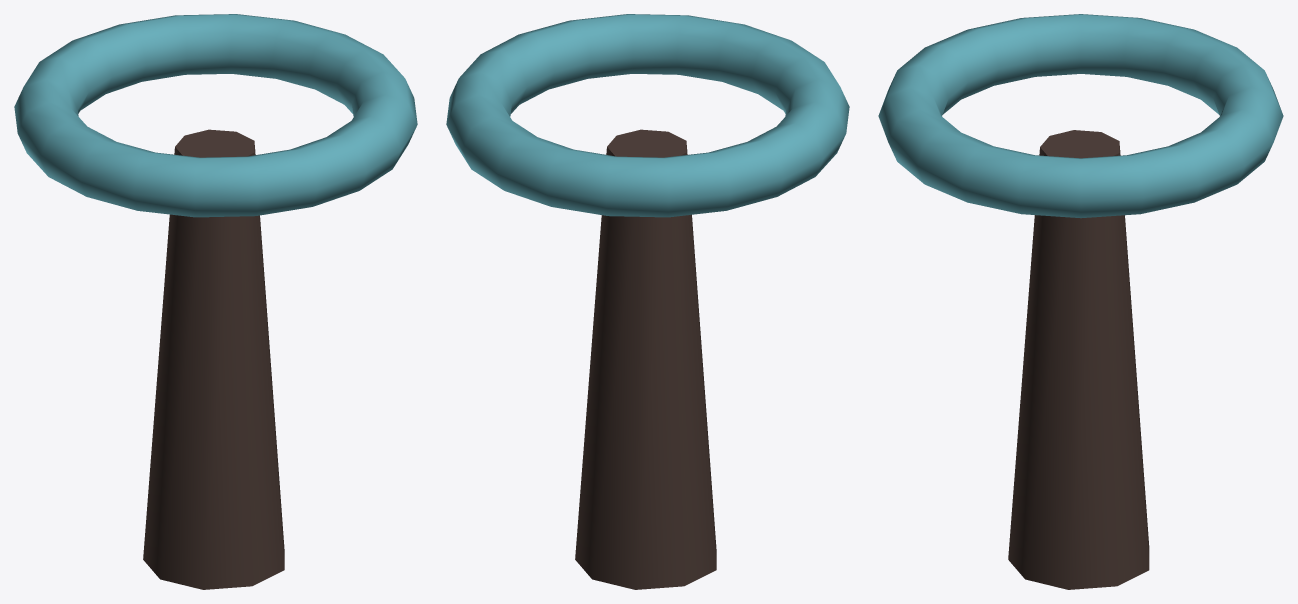
Rendered from portal_frame.glb.
The picture shows the model from 3 angles, left to right: view 1: azimuth 30°, elevation 25°; view 2: azimuth 150°, elevation 25°; view 3: azimuth 270°, elevation 25°; orthographic projection.
Visible parts, largest first — view 1: portal_focus, portal_stand; view 2: portal_focus, portal_stand; view 3: portal_focus, portal_stand.
Boxes of the visible parts, <box> form: portal_focus: <box>14,14,417,217</box>; portal_stand: <box>143,129,284,589</box>; portal_focus: <box>446,14,849,217</box>; portal_stand: <box>575,129,716,589</box>; portal_focus: <box>878,14,1283,218</box>; portal_stand: <box>1008,130,1149,589</box>.
Size of what is drawn, in the model's own units: 1.78 by 2.29 by 1.78.
